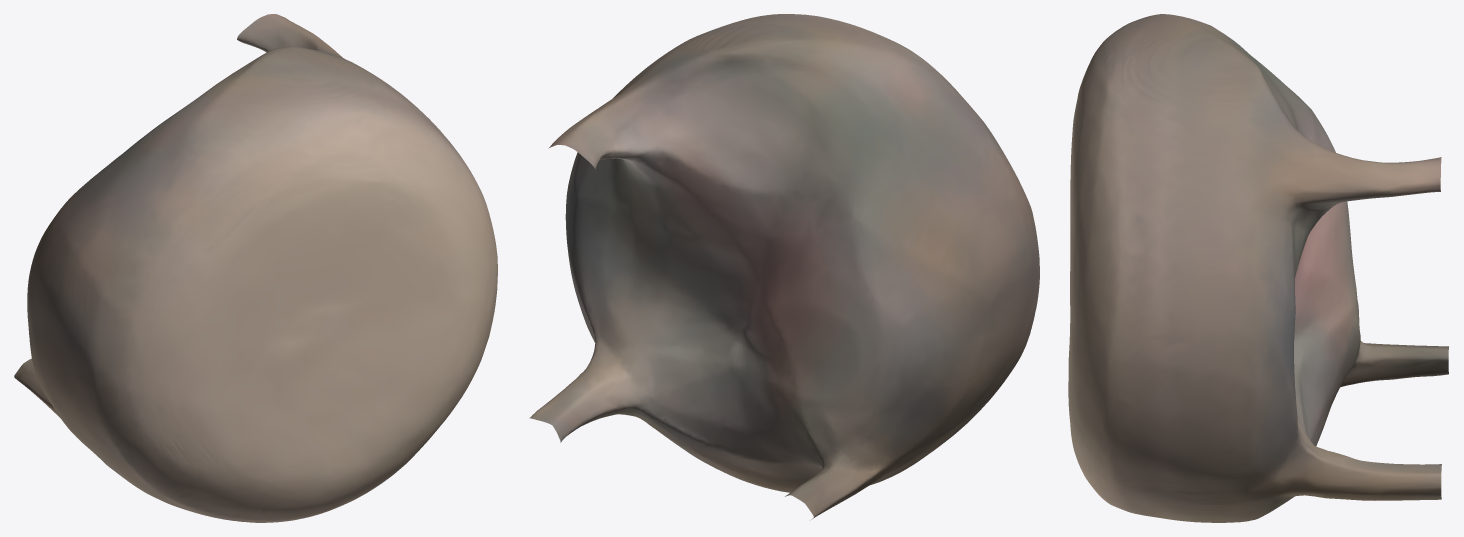
3 renders of one model, left to right at view 1: azimuth 30°, elevation 25°; view 2: azimuth 150°, elevation 25°; view 3: azimuth 270°, elevation 25°, orthographic. The views are drawn at different scales.
Visible parts, largest first — view 1: defaultobject; view 2: defaultobject; view 3: defaultobject.
Part boxes in pixels (x1=…): defaultobject: x1=14, y1=14, x2=497, y2=522; defaultobject: x1=529, y1=14, x2=1039, y2=519; defaultobject: x1=1068, y1=14, x2=1448, y2=522.
Size of the model in its own units: 0.6839 by 0.6654 by 0.4998.
